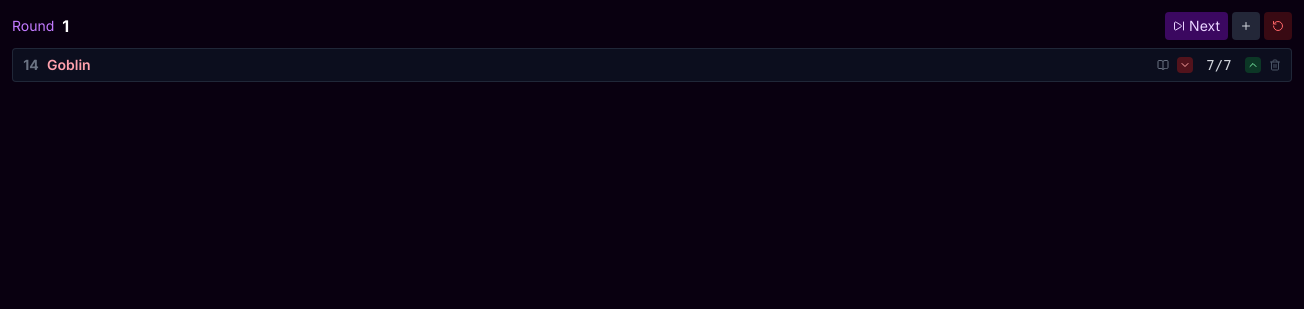
Test case: InitiativeWidget stat-block panel › shows the creature's attacks and spells in place when expanded
Expected: the text "5 (1d6 + 2) slashing" is not shown
Click the button named "Show attacks and spells for Goblin" at (1163, 65), box left=1155, top=57, right=1171, bottom=73
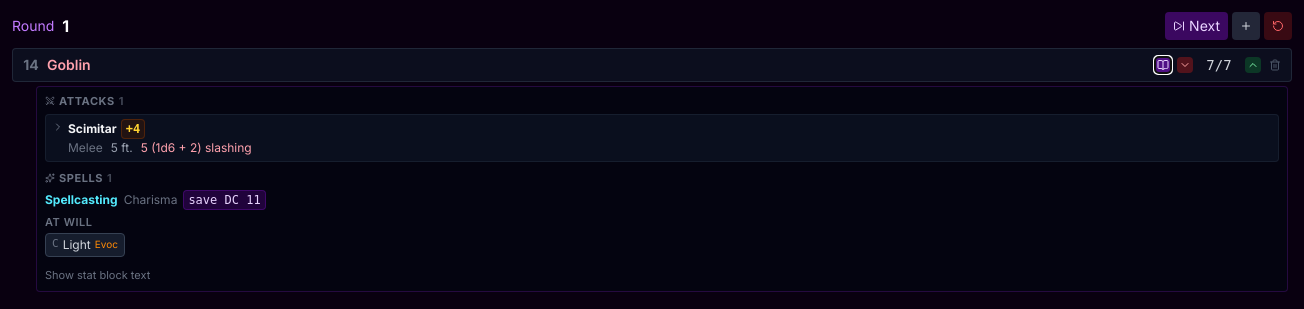
Result: the text "+4" is shown at left=121, top=118, right=145, bottom=138
Result: the text "5 (1d6 + 2) slashing" is shown at left=141, top=138, right=252, bottom=156
Result: the text "save DC 11" is shown at left=183, top=190, right=266, bottom=210
